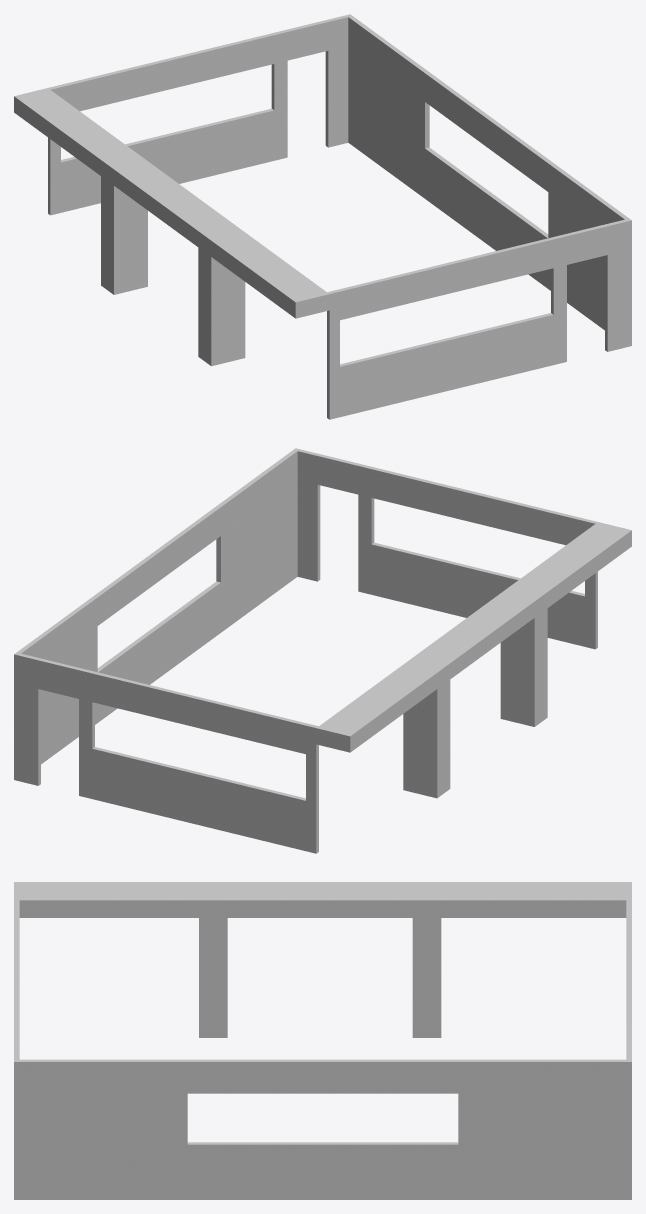
3 renders of one model, top to bottom at view 1: azimuth 30°, elevation 25°; view 2: azimuth 150°, elevation 25°; view 3: azimuth 270°, elevation 25°, orthographic. The views are drawn at different scales.
Parts seen in each view (by area): view 1: base_link; view 2: base_link; view 3: base_link.
Boxes of the visible parts, x1,y1,x2,y2 form: base_link: [14, 14, 631, 419]; base_link: [14, 448, 631, 853]; base_link: [14, 882, 631, 1199].
Bounding box in the file's own units: 7.56 × 10.97 × 2.7.
Materials: 1 (1 with a texture image).
